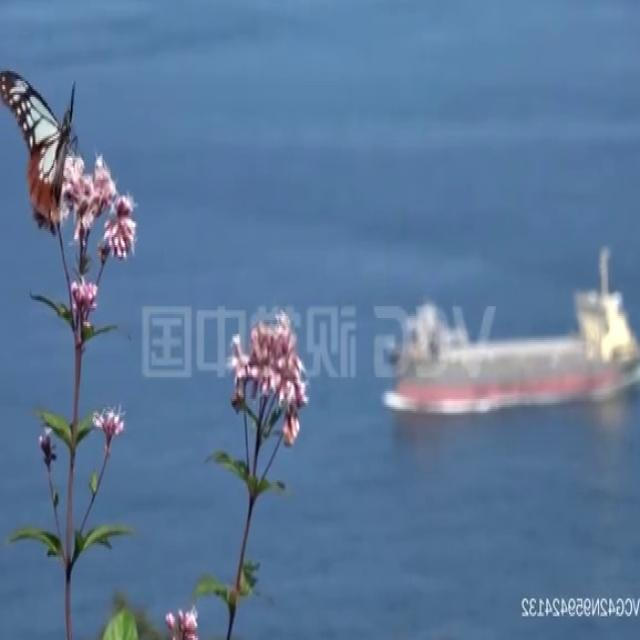cargoship: (381, 243, 640, 421)
